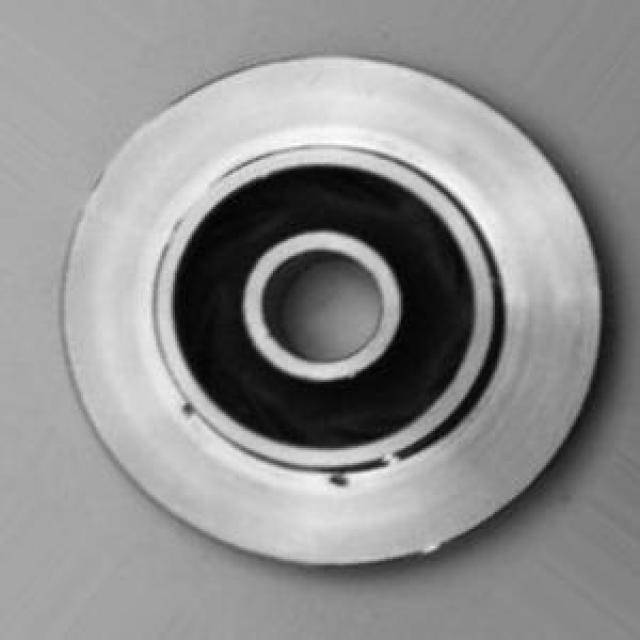Defect: (329, 467, 354, 491)
